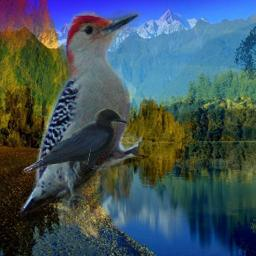Crow: (23, 108, 128, 183)
Woodpecker: (18, 10, 143, 218)
